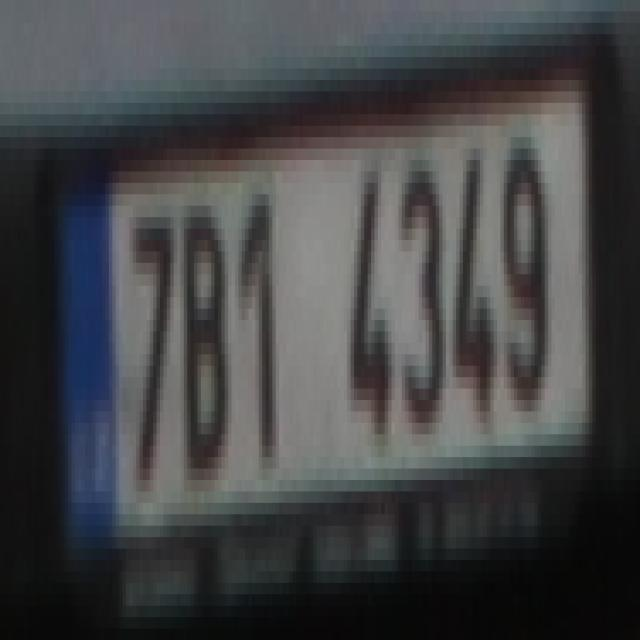1: (235, 183, 279, 446)
3: (398, 149, 443, 434)
4: (340, 160, 395, 446), (449, 148, 497, 423)
7: (126, 217, 170, 480)
9: (501, 137, 558, 434)
B: (184, 183, 228, 480)
